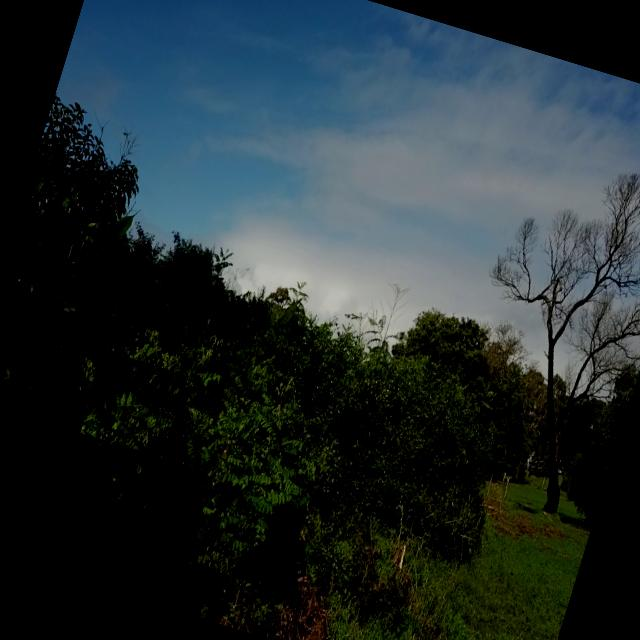Mysore-Thorn-Weed: (184, 432, 320, 592), (80, 350, 188, 458), (200, 367, 265, 462), (258, 374, 306, 448), (274, 276, 318, 332)
